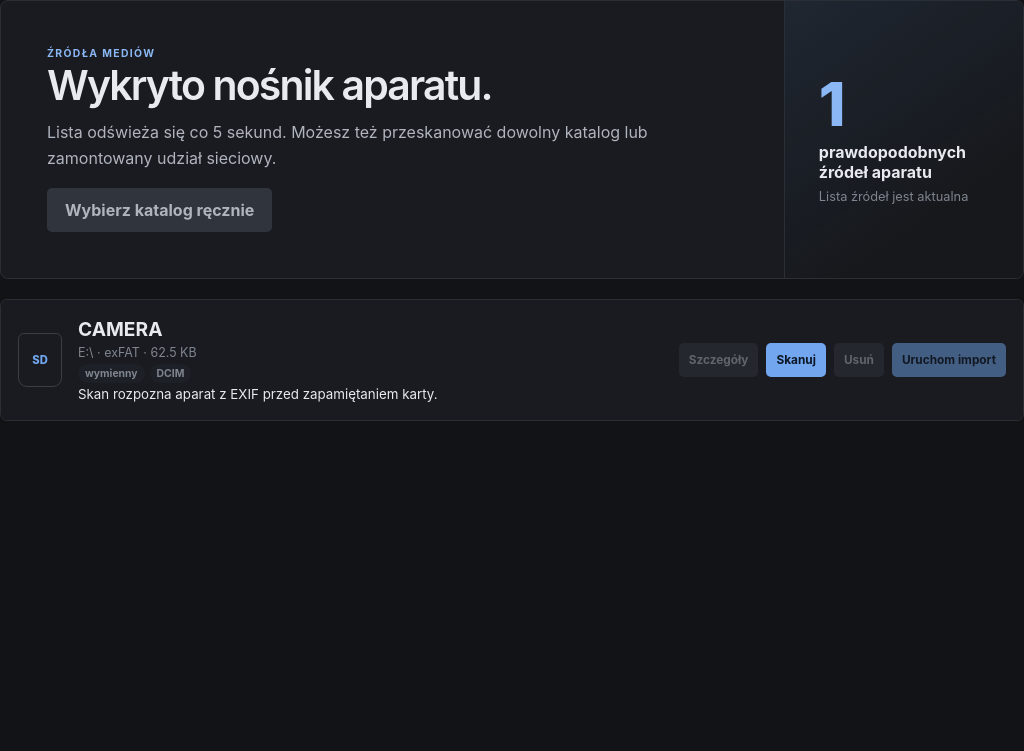
Test case: SourceScanner › discovers a card, reports scan progress, cancels and accepts completion
The width and height of the screenshot is (1024, 751).
Expected: the heading "Wykryto nośnik aparatu." is shown, [47, 60, 492, 110]
Click the button "Skanuj" at (796, 360), box [766, 342, 826, 376]
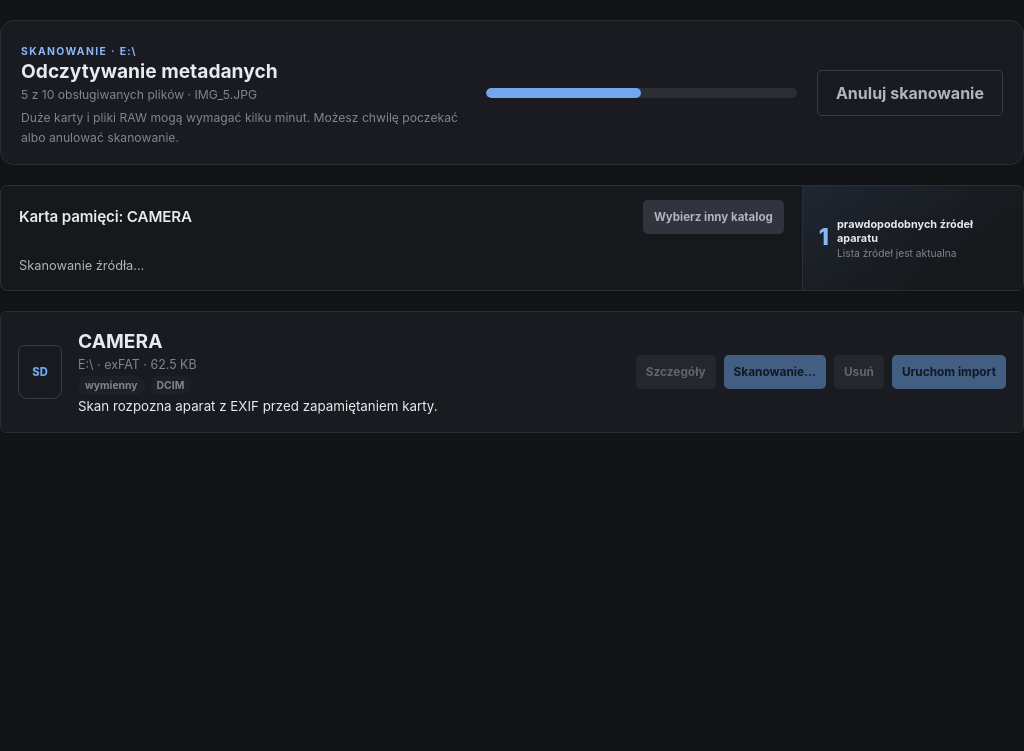
Result: the heading "Wyszukiwanie zdjęć i filmów" is shown at [21, 59, 278, 83]
Result: the text "5 z 10 obsługiwanych plików · IMG_5.JPG" is shown at [21, 87, 257, 102]
Click the button "Anuluj skanowanie" at (910, 92), box [817, 70, 1003, 116]
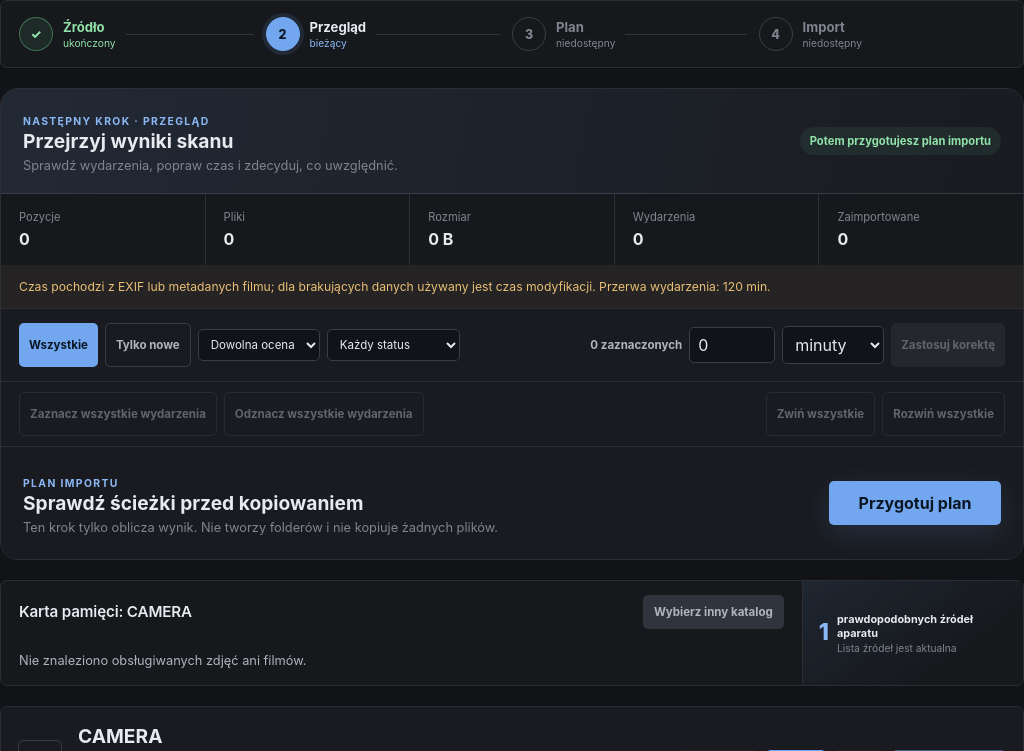
Result: the text "Nie znaleziono obsługiwanych zdjęć ani filmów." is shown at [19, 653, 306, 668]
